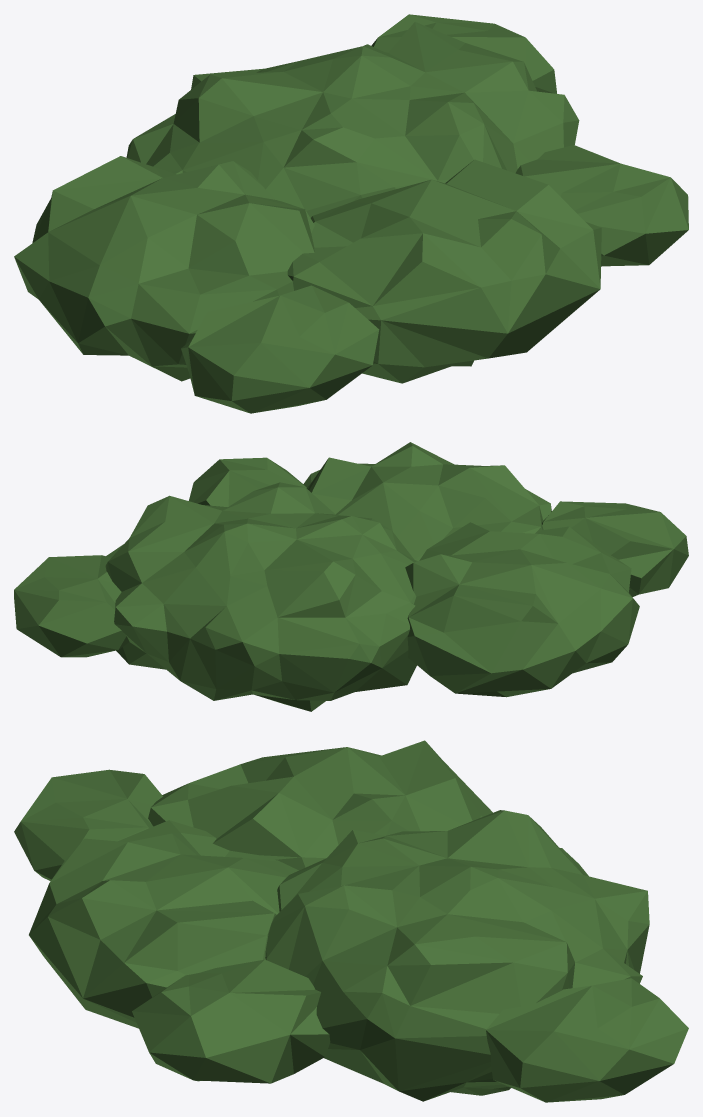
Rendered from SM_Env_Tree_Canopy_01.fbx.
3 renders of one model, top to bottom at view 1: azimuth 30°, elevation 25°; view 2: azimuth 150°, elevation 25°; view 3: azimuth 270°, elevation 25°, orthographic. The views are drawn at different scales.
Visible parts, largest first — view 1: SM_Env_Tree_Canopy_01; view 2: SM_Env_Tree_Canopy_01; view 3: SM_Env_Tree_Canopy_01.
Boxes of the visible parts, x1=… form: SM_Env_Tree_Canopy_01: x1=14, y1=14, x2=688, y2=413; SM_Env_Tree_Canopy_01: x1=14, y1=442, x2=688, y2=711; SM_Env_Tree_Canopy_01: x1=14, y1=740, x2=688, y2=1102.
Bounding box in the file's own units: 13.81 × 4.54 × 13.14.
